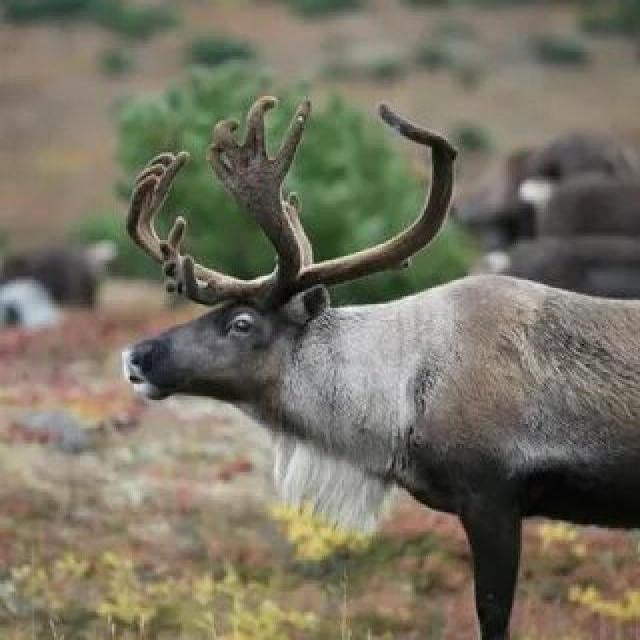deer: (61, 94, 640, 589)
